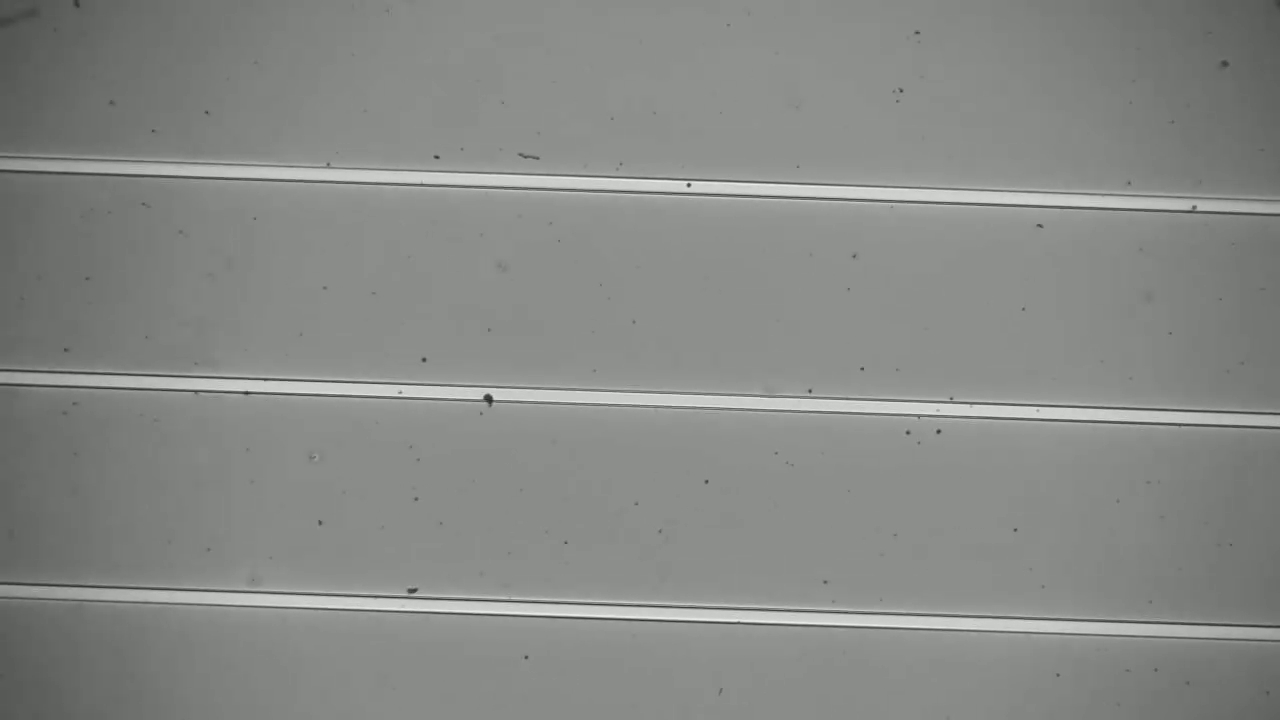stains_enbedded: (478, 379, 504, 414)
